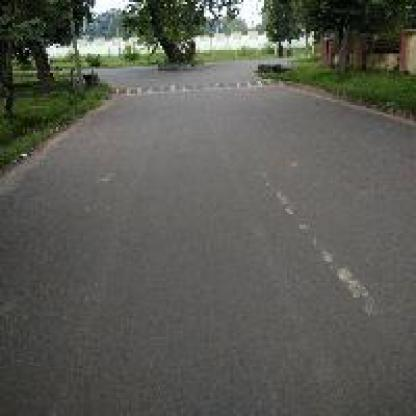Speed Bump: (110, 75, 287, 98)
